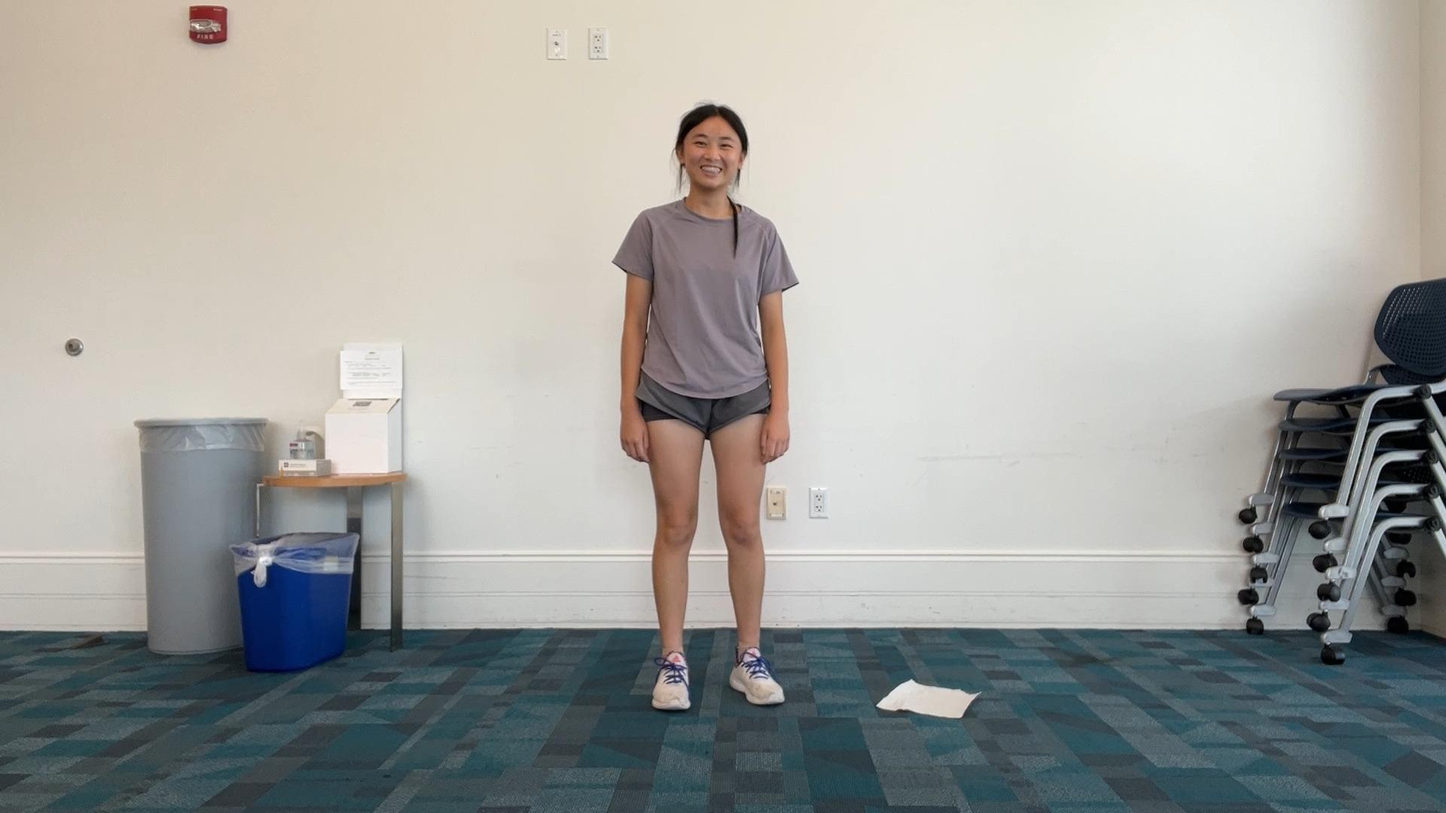Trash: (862, 663, 990, 730)
